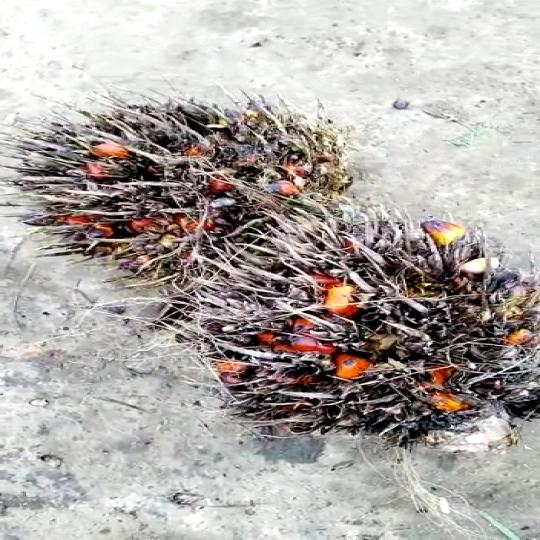terlalu masak: (153, 211, 540, 455), (0, 88, 368, 280)
